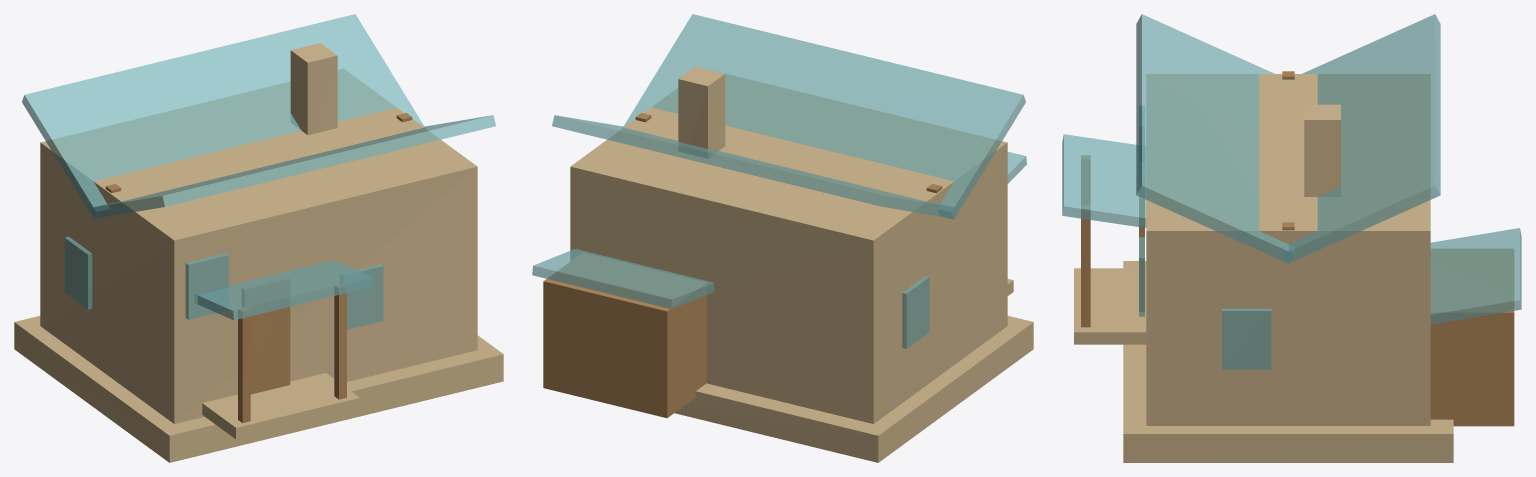
Rendered from farmhouse.source.glb.
3 views of the same model, side by side, from view 1: azimuth 30°, elevation 25°; view 2: azimuth 150°, elevation 25°; view 3: azimuth 270°, elevation 25° (orthographic). The views are drawn at different scales.
Parts seen in each view (by area): view 1: farmhouse-cream-main-house-mesh, farmhouse-pitched-roof-rear-mesh, farmhouse-grounded-stone-foundation-mesh, farmhouse-pitched-roof-front-mesh, farmhouse-small-porch-roof-mesh, farmhouse-front-porch-deck-mesh, farmhouse-muted-teal-front-door-mesh, farmhouse-narrow-chimney-mesh, farmhouse-modest-window-front-left-mesh, farmhouse-modest-window-front-right-mesh, farmhouse-modest-window-side-left-mesh, farmhouse-slim-porch-post-left-mesh (+1 smaller); view 2: farmhouse-cream-main-house-mesh, farmhouse-pitched-roof-front-mesh, farmhouse-rear-service-lean-to-mesh, farmhouse-grounded-stone-foundation-mesh, farmhouse-pitched-roof-rear-mesh, farmhouse-rear-service-roof-mesh, farmhouse-narrow-chimney-mesh, farmhouse-modest-window-side-left-mesh; view 3: farmhouse-cream-main-house-mesh, farmhouse-pitched-roof-front-mesh, farmhouse-pitched-roof-rear-mesh, farmhouse-rear-service-lean-to-mesh, farmhouse-grounded-stone-foundation-mesh, farmhouse-rear-service-roof-mesh, farmhouse-small-porch-roof-mesh, farmhouse-front-porch-deck-mesh, farmhouse-narrow-chimney-mesh, farmhouse-modest-window-side-right-mesh, farmhouse-slim-porch-post-right-mesh, farmhouse-muted-teal-front-door-mesh (+2 smaller).
Part boxes in pixels (box(x1,y1,x2,y2)): farmhouse-cream-main-house-mesh: box(40, 69, 477, 423); farmhouse-pitched-roof-rear-mesh: box(22, 14, 424, 219); farmhouse-grounded-stone-foundation-mesh: box(14, 316, 503, 462); farmhouse-pitched-roof-front-mesh: box(90, 115, 495, 218); farmhouse-small-porch-roof-mesh: box(195, 260, 373, 320); farmhouse-front-porch-deck-mesh: box(202, 373, 359, 439); farmhouse-muted-teal-front-door-mesh: box(242, 277, 290, 394); farmhouse-narrow-chimney-mesh: box(290, 43, 337, 134); farmhouse-modest-window-front-left-mesh: box(185, 253, 228, 319); farmhouse-modest-window-front-right-mesh: box(341, 264, 383, 329); farmhouse-modest-window-side-left-mesh: box(64, 236, 92, 309); farmhouse-slim-porch-post-left-mesh: box(238, 307, 250, 423); farmhouse-cream-main-house-mesh: box(570, 74, 1007, 423); farmhouse-pitched-roof-front-mesh: box(623, 14, 1025, 219); farmhouse-rear-service-lean-to-mesh: box(543, 253, 706, 417); farmhouse-grounded-stone-foundation-mesh: box(674, 316, 1033, 462); farmhouse-pitched-roof-rear-mesh: box(552, 115, 957, 218); farmhouse-rear-service-roof-mesh: box(532, 249, 714, 308); farmhouse-narrow-chimney-mesh: box(678, 66, 725, 158); farmhouse-modest-window-side-left-mesh: box(902, 276, 929, 348); farmhouse-cream-main-house-mesh: box(1146, 74, 1430, 425); farmhouse-pitched-roof-front-mesh: box(1136, 14, 1294, 263); farmhouse-pitched-roof-rear-mesh: box(1282, 14, 1440, 263); farmhouse-rear-service-lean-to-mesh: box(1430, 249, 1514, 426); farmhouse-grounded-stone-foundation-mesh: box(1123, 261, 1453, 462); farmhouse-rear-service-roof-mesh: box(1430, 228, 1521, 324); farmhouse-small-porch-roof-mesh: box(1062, 134, 1146, 227); farmhouse-front-porch-deck-mesh: box(1074, 268, 1146, 344); farmhouse-narrow-chimney-mesh: box(1304, 104, 1340, 196); farmhouse-modest-window-side-right-mesh: box(1222, 308, 1271, 369); farmhouse-slim-porch-post-right-mesh: box(1081, 205, 1090, 327); farmhouse-muted-teal-front-door-mesh: box(1139, 197, 1144, 311).
Bounding box in the file's own units: 5.4 × 4.38 × 6.06.
